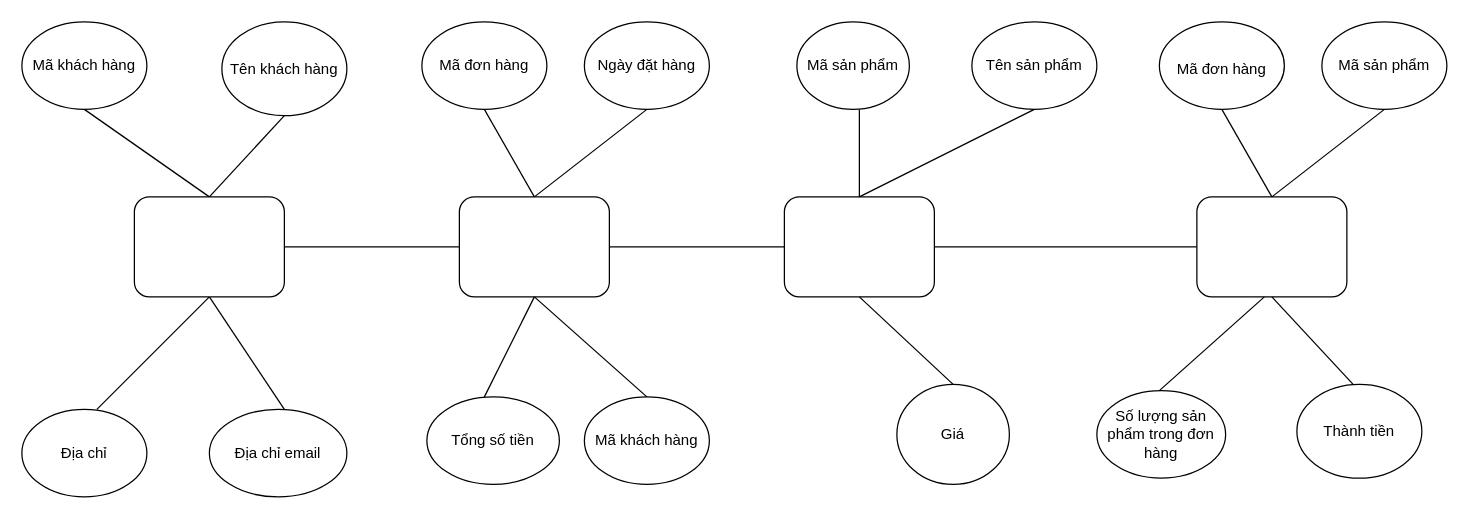
The diagram is 1469 pixels wide and 529 high, and some of its shapes have lost their labels. Here are the shapes that lost their labels. From the top down, the centre of each, then its label:
[208,246]: Customer (Khách hàng)
[533,246]: Order (Đơn hàng)
[858,246]: Product (Sản phẩm)
[1271,246]: OrderDetail (Chi tiết đơn hàng)
